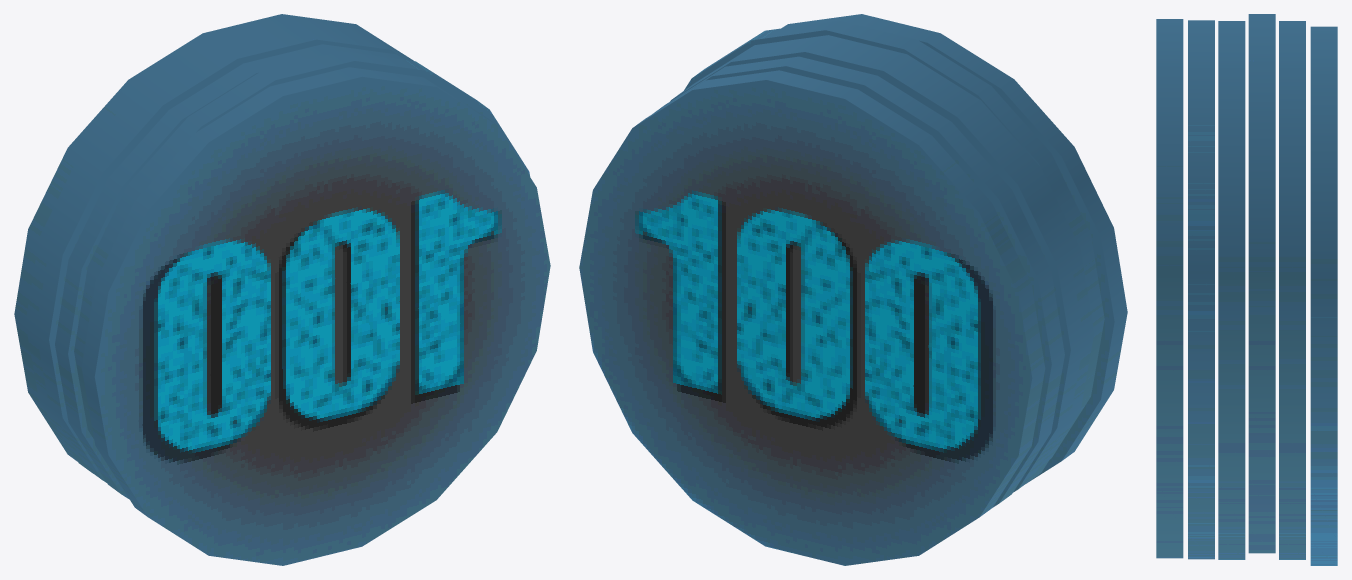
Rendered from ps2_save-icons_videopokerblackjack-userdata.glb.
3 views of the same model, side by side, from view 1: azimuth 30°, elevation 25°; view 2: azimuth 150°, elevation 25°; view 3: azimuth 270°, elevation 25° (orthographic). The views are drawn at different scales.
Visible parts, largest first — view 1: VPU.ico; view 2: VPU.ico; view 3: VPU.ico.
Boxes of the visible parts, left/top/right/bottom form: VPU.ico: left=14, top=14, right=550, bottom=565; VPU.ico: left=579, top=14, right=1127, bottom=565; VPU.ico: left=1156, top=14, right=1337, bottom=565.
Bounding box in the file's own units: 5 × 4.92 × 1.64.
1 material, 1 textured.
